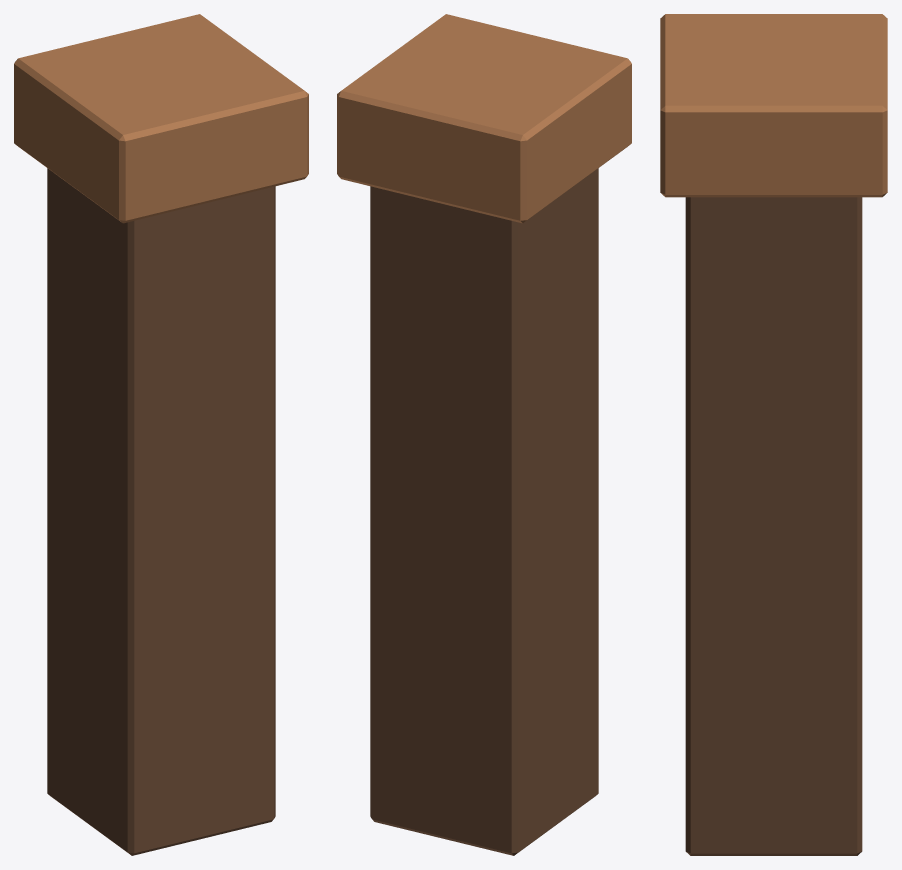
File: wood_post_short_01.glb
3 views of the same model, side by side, from view 1: azimuth 30°, elevation 25°; view 2: azimuth 150°, elevation 25°; view 3: azimuth 270°, elevation 25° (orthographic). The views are drawn at different scales.
Visible parts, largest first — view 1: wood_post_short_01; view 2: wood_post_short_01; view 3: wood_post_short_01.
Boxes of the visible parts, x1,y1,x2,y2 form: wood_post_short_01: [14, 14, 308, 855]; wood_post_short_01: [337, 14, 631, 855]; wood_post_short_01: [660, 14, 887, 855].
Bounding box in the file's own units: 0.18 × 0.665 × 0.18.
